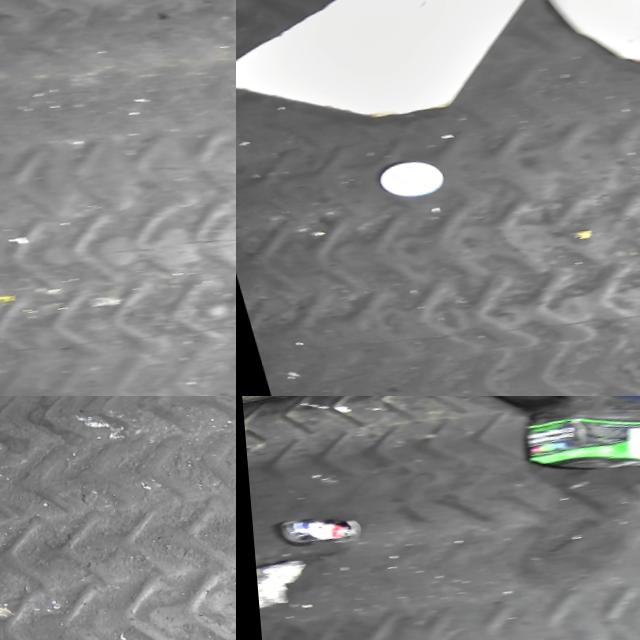can: (269, 502, 362, 553)
milk_jug: (530, 0, 640, 79)
non_white_jug: (510, 396, 640, 481)
